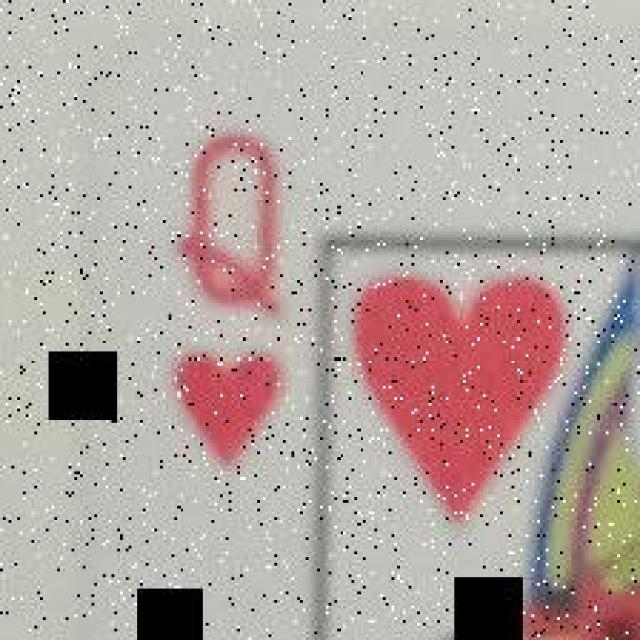Queen of hearts: (5, 3, 640, 640)
